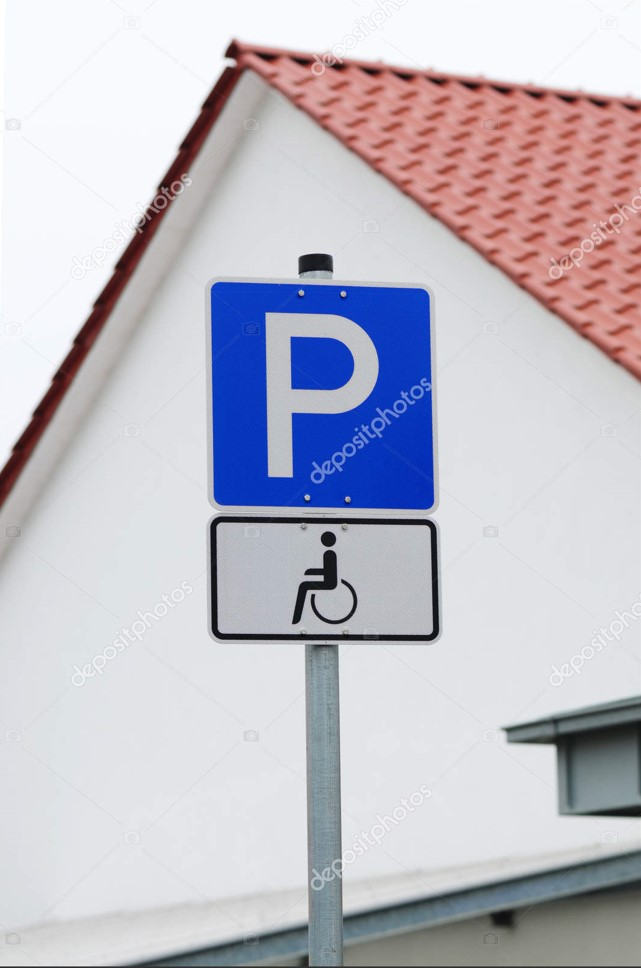Parking: (198, 270, 444, 516)
